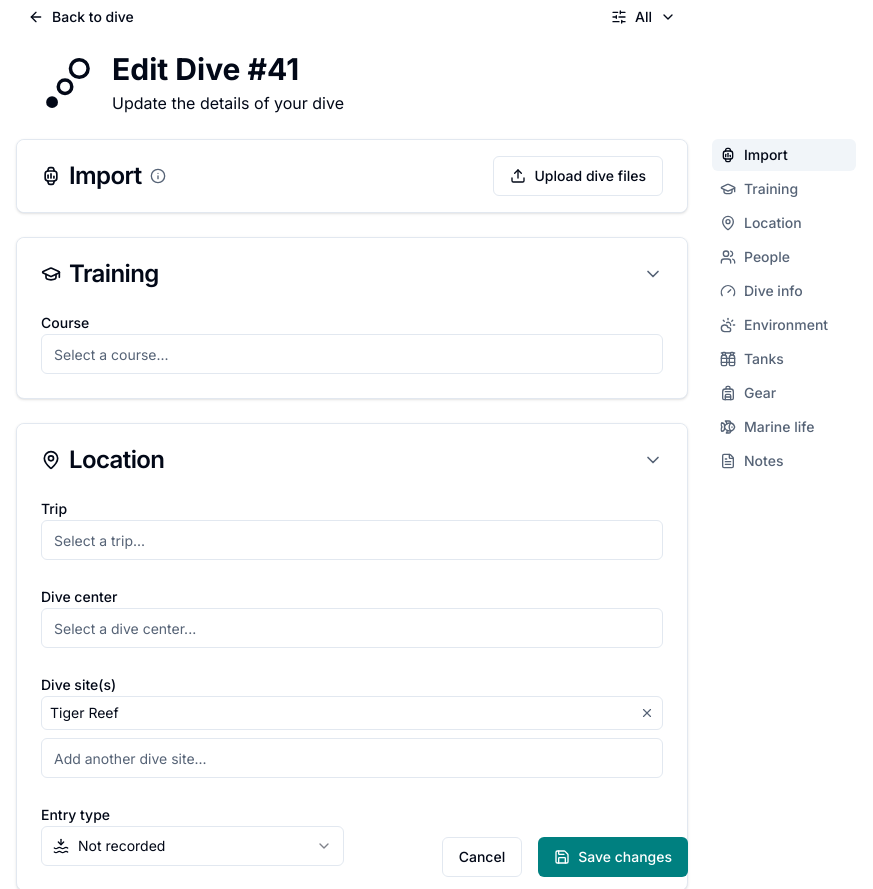
a dive's conditions while the form is open › asks again for the fields its fetch filled when the site changes
The width and height of the screenshot is (873, 889).
Click the button named "Remove Tiger Reef".
click(647, 713)  # box [640,706,654,720]
(page scrolled)
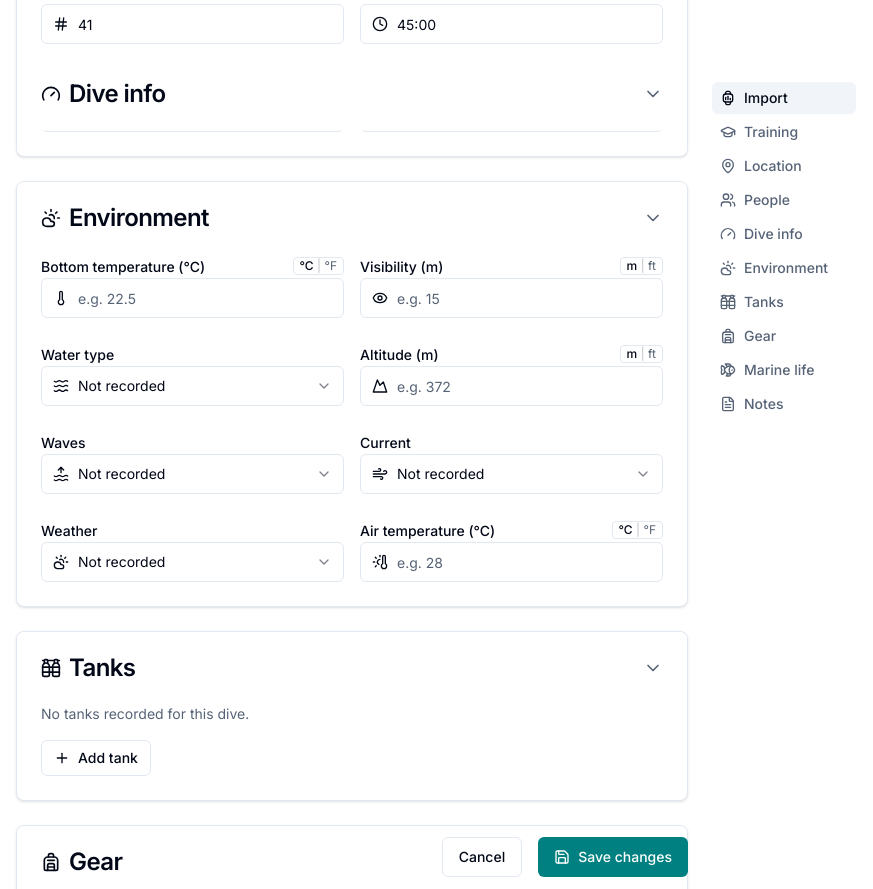
Expected: the dropdown labelled "Waves" shows "Not recorded", [41,454,344,494]
